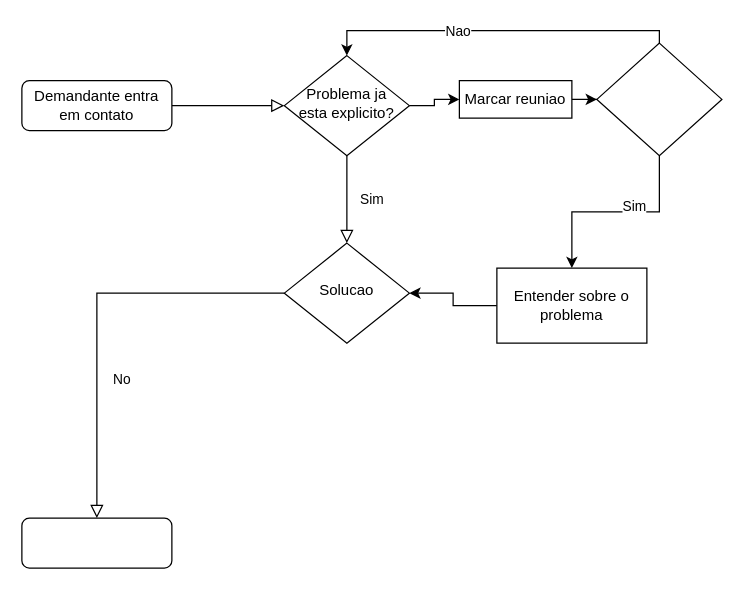
This 744x590 diagram has some shape labels left out. The centre of each missing label's shape, as x and y in pixels:
"Repair Lamp" goes at (96,542).
"Reuniao confirmada?" goes at (659,99).
